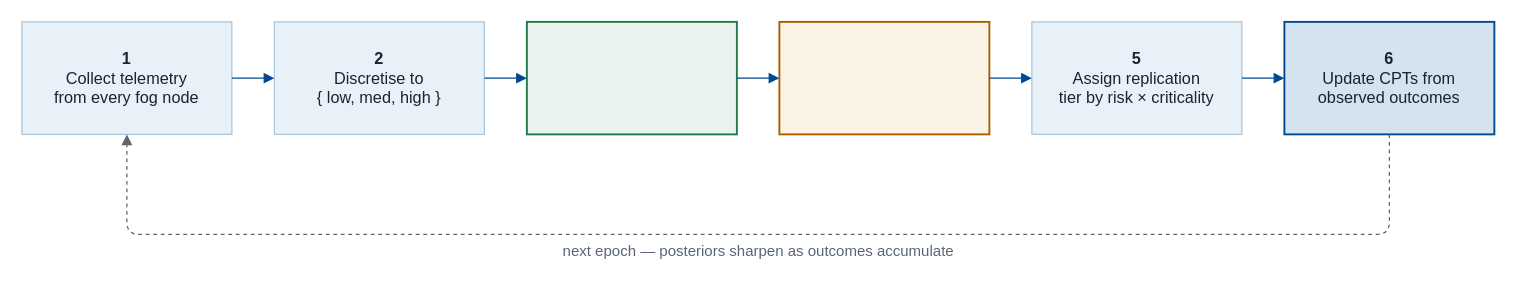
This 1518x283 diagram has some shape labels left out. Here are the shapes that lost their labels. From the top down, the centre of each, then its label:
At (631,77): "3 BBN inference P(F | e), missing evidence marginalised".
At (884,77): "4 Place / migrate on expected loss".
